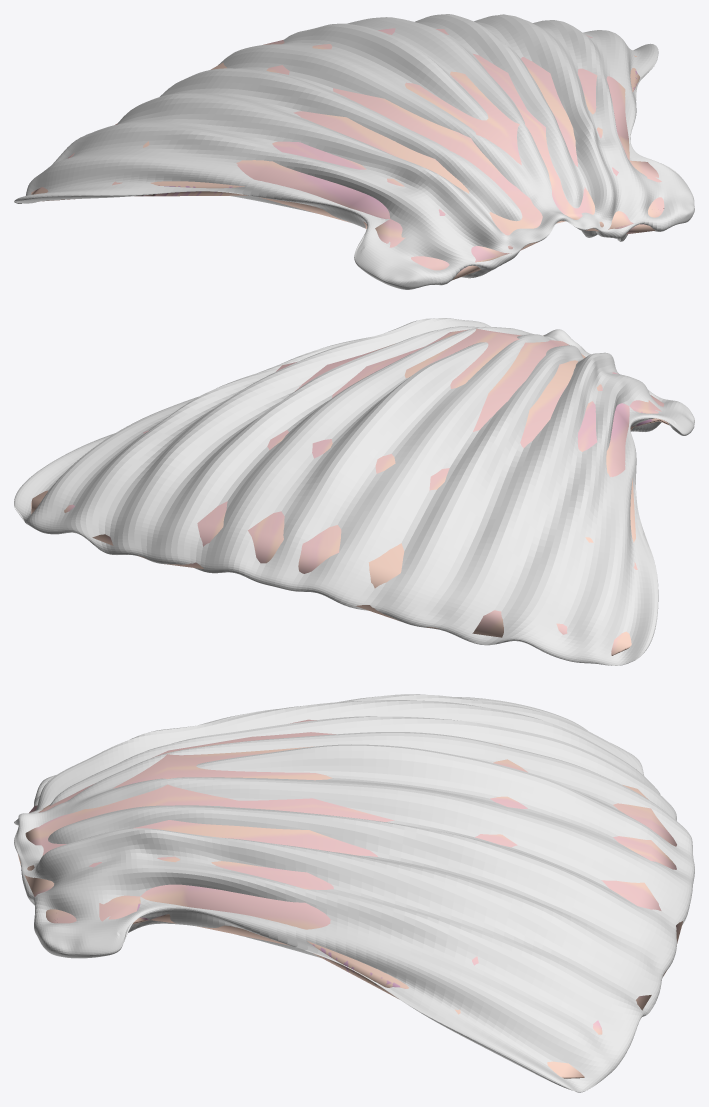
File: Shell.fbx
3 views of the same model, one above another, from view 1: azimuth 30°, elevation 25°; view 2: azimuth 150°, elevation 25°; view 3: azimuth 270°, elevation 25° (orthographic). The views are drawn at different scales.
Parts seen in each view (by area): view 1: Cube.005, Cube.004; view 2: Cube.005, Cube.004; view 3: Cube.005, Cube.004.
Part boxes in pixels (x1,y1,x2,y2): Cube.005: (14,14,694,289); Cube.004: (31,28,664,280); Cube.005: (14,318,694,665); Cube.004: (31,328,669,655); Cube.005: (14,694,694,1092); Cube.004: (18,719,682,1078).
Size of the model in its own units: 219 by 48.98 by 173.
